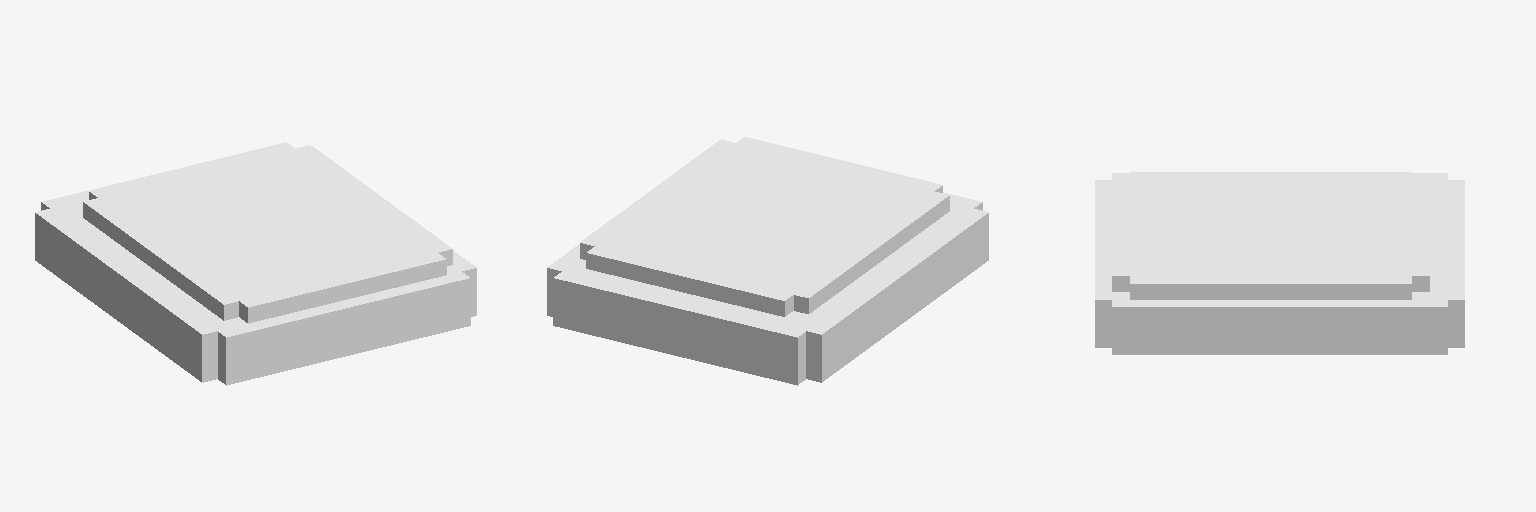
Rendered from obj_tablet.obj.
The picture shows the model from 3 angles: view 1: azimuth 30°, elevation 25°; view 2: azimuth 150°, elevation 25°; view 3: azimuth 270°, elevation 25°; orthographic projection.
Parts seen in each view (by area): view 1: obj_tablet; view 2: obj_tablet; view 3: obj_tablet.
Boxes of the visible parts, <box> form: obj_tablet: <box>35,142,476,385</box>; obj_tablet: <box>547,137,988,385</box>; obj_tablet: <box>1095,172,1464,354</box>.
Bounding box in the file's own units: 18 × 4 × 21.